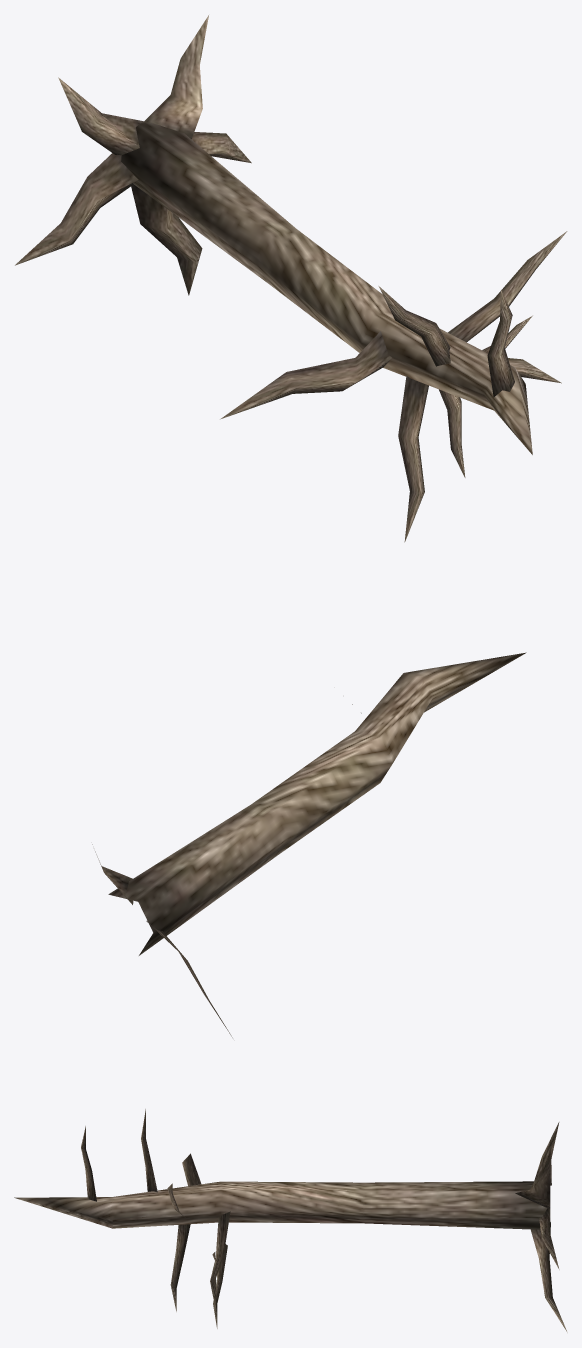
3 renders of one model, top to bottom at view 1: azimuth 30°, elevation 25°; view 2: azimuth 150°, elevation 25°; view 3: azimuth 270°, elevation 25°, orthographic. The views are drawn at different scales.
Parts seen in each view (by area): view 1: model_Object32; view 2: model_Object32; view 3: model_Object32.
Boxes of the visible parts, bbox=[...] form: model_Object32: bbox=[15, 15, 567, 542]; model_Object32: bbox=[92, 652, 526, 1037]; model_Object32: bbox=[14, 1109, 567, 1332].
Bounding box in the file's own units: 1.59 × 1.25 × 3.21.
Materials: 1 (1 with a texture image).
